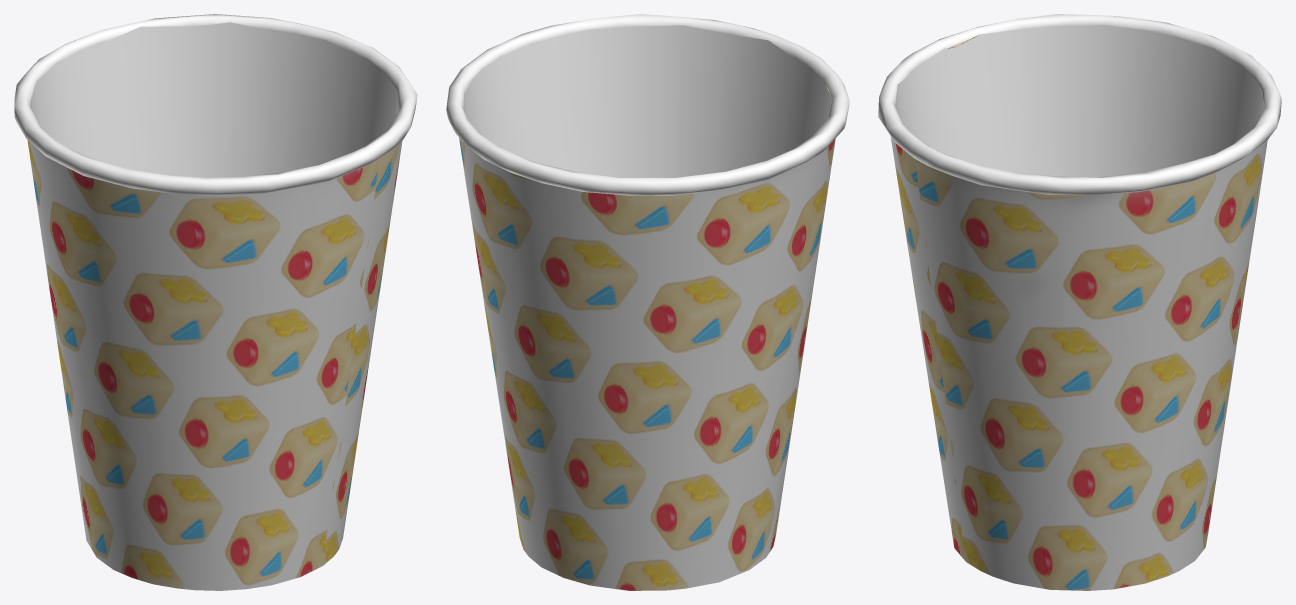
Rendered from paper_cup.glb.
The picture shows the model from 3 angles, left to right: view 1: azimuth 30°, elevation 25°; view 2: azimuth 150°, elevation 25°; view 3: azimuth 270°, elevation 25°; orthographic projection.
Parts seen in each view (by area): view 1: SM_PaperCup; view 2: SM_PaperCup; view 3: SM_PaperCup.
Part boxes in pixels (x1,y1,x2,y2): SM_PaperCup: (14, 14, 417, 590); SM_PaperCup: (446, 14, 849, 590); SM_PaperCup: (878, 14, 1281, 590).
Bounding box in the file's own units: 0.093 × 0.1124 × 0.0931.
1 material, 1 textured.
